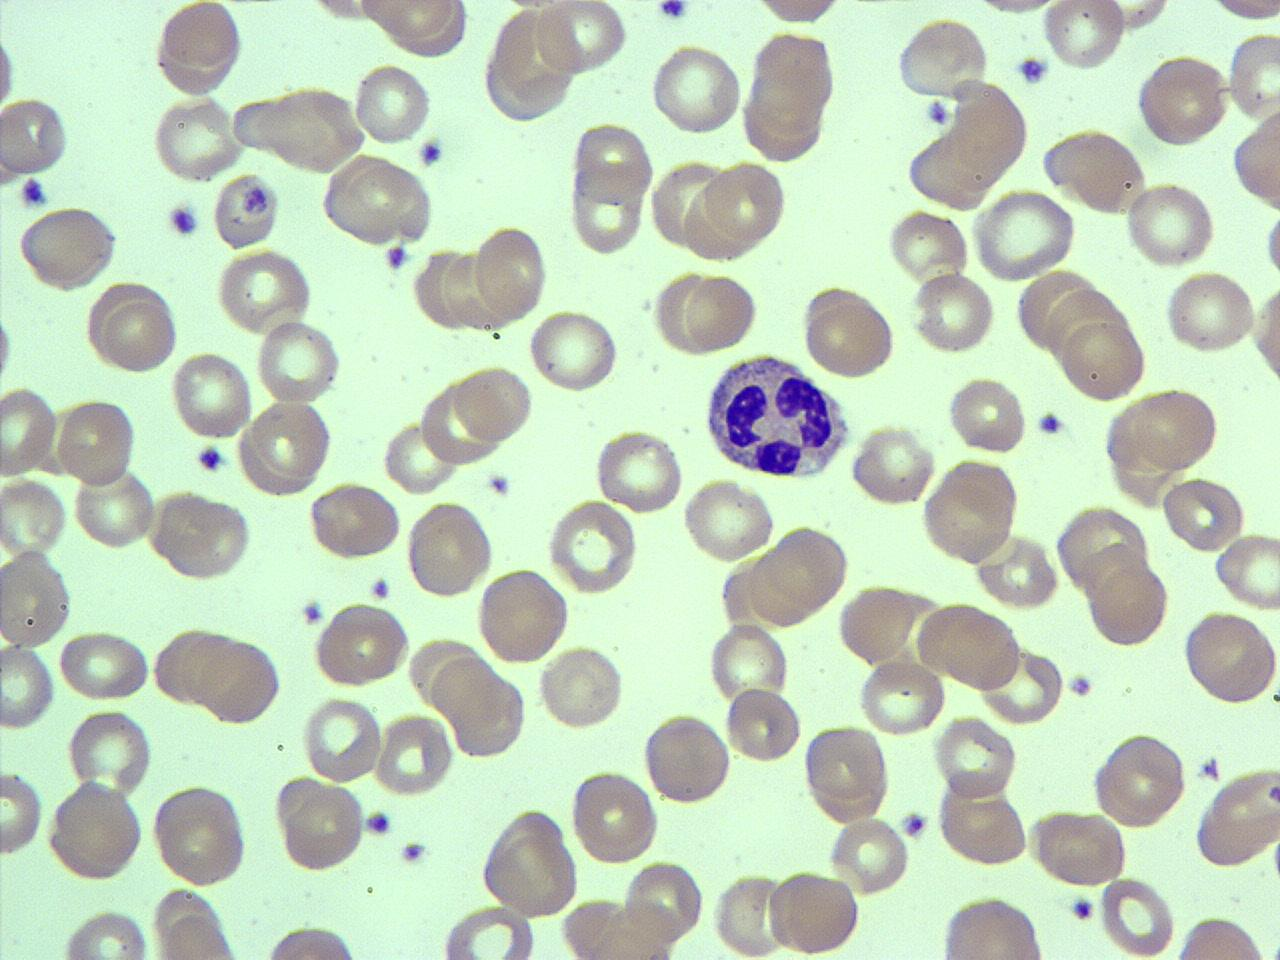Platelets: (163, 194, 203, 243), (1013, 53, 1051, 87), (18, 175, 51, 211), (193, 442, 226, 476), (923, 96, 953, 130), (398, 838, 432, 868), (898, 808, 929, 840), (417, 135, 447, 168), (298, 594, 327, 629), (383, 242, 413, 274), (362, 808, 394, 838), (1033, 409, 1067, 438), (654, 1, 694, 23), (1064, 671, 1094, 700), (368, 574, 394, 603), (1197, 752, 1221, 784), (1070, 894, 1096, 923), (1268, 837, 1280, 886)
RBC: (477, 806, 580, 920), (919, 454, 1021, 566), (316, 152, 435, 248), (148, 782, 251, 890), (742, 29, 841, 140), (44, 778, 145, 884), (971, 186, 1077, 282), (1089, 730, 1189, 830), (473, 566, 571, 666), (238, 397, 337, 496), (798, 282, 898, 380), (1181, 608, 1279, 708), (914, 602, 1024, 691), (150, 489, 254, 582), (1112, 386, 1224, 472), (1041, 125, 1149, 214), (403, 498, 496, 601), (17, 203, 123, 292), (151, 1, 248, 99), (212, 247, 316, 336), (650, 40, 744, 138), (566, 767, 660, 865), (800, 724, 892, 824), (640, 708, 732, 808), (310, 600, 412, 690), (546, 499, 640, 596), (275, 776, 368, 874), (1136, 51, 1228, 148), (1122, 179, 1218, 270), (1162, 266, 1258, 357), (681, 476, 778, 566), (150, 93, 245, 184), (592, 426, 688, 514), (526, 306, 622, 394), (893, 14, 991, 100), (766, 866, 859, 956), (1031, 808, 1131, 890), (471, 222, 551, 323), (254, 317, 344, 406), (65, 706, 155, 794), (848, 421, 938, 508), (930, 712, 1018, 802), (300, 692, 384, 786), (306, 480, 402, 562), (0, 546, 74, 651), (538, 643, 626, 732), (195, 636, 282, 724), (1059, 317, 1147, 404), (703, 158, 789, 248), (938, 784, 1029, 868), (570, 118, 654, 210), (170, 349, 254, 441), (936, 892, 1050, 959), (57, 394, 138, 488), (1200, 762, 1280, 856), (623, 855, 705, 946), (649, 157, 727, 252), (373, 710, 455, 800), (531, 1, 630, 75), (834, 581, 918, 667), (706, 622, 792, 706), (350, 59, 433, 146), (1087, 560, 1169, 648), (710, 870, 790, 960), (856, 658, 946, 738), (981, 642, 1066, 726), (828, 814, 912, 898), (72, 468, 157, 551), (94, 293, 180, 375), (912, 271, 996, 355), (152, 624, 235, 708), (56, 628, 150, 702), (453, 360, 534, 444), (884, 207, 972, 284), (722, 684, 803, 766), (974, 531, 1059, 610), (1160, 475, 1246, 554), (946, 374, 1028, 456), (1099, 873, 1177, 957), (1039, 0, 1127, 73), (684, 271, 759, 354), (210, 169, 283, 252), (0, 93, 71, 178), (0, 474, 71, 558), (380, 418, 458, 494), (437, 903, 538, 959), (0, 385, 59, 479), (1212, 528, 1278, 612), (355, 0, 468, 48), (1, 638, 57, 732), (55, 905, 152, 959), (1230, 110, 1280, 213), (1225, 30, 1279, 123), (1169, 914, 1271, 958), (0, 764, 45, 863), (255, 922, 373, 959), (1249, 273, 1279, 396), (1084, 0, 1176, 35), (746, 0, 848, 30), (1204, 0, 1280, 24), (0, 21, 19, 115), (1261, 208, 1280, 282)
WBC: (699, 348, 853, 484)
